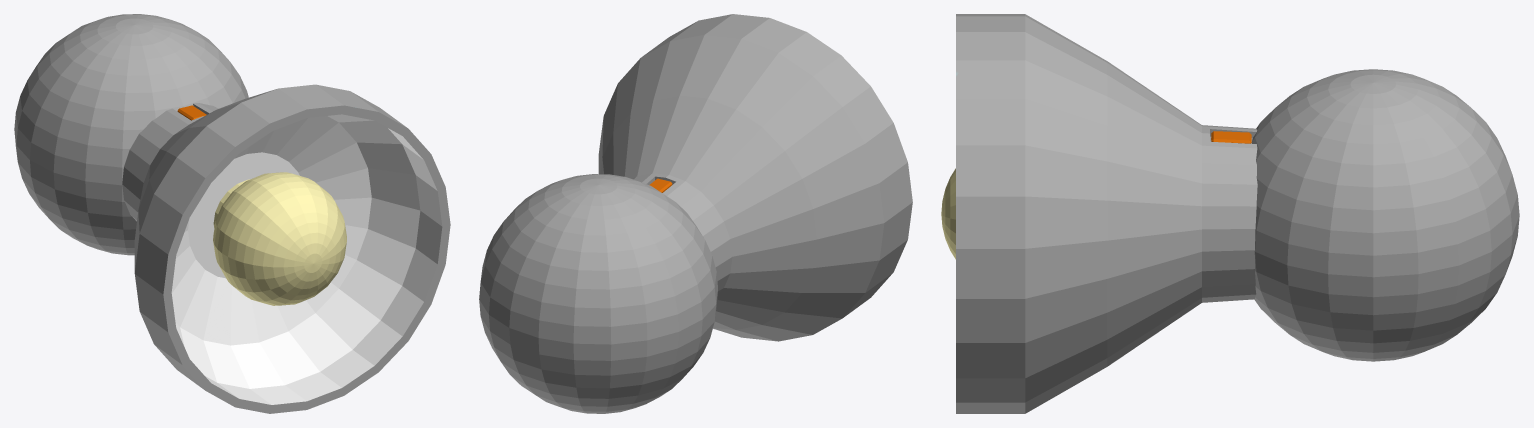
File: light_head.fbx
3 renders of one model, left to right at view 1: azimuth 30°, elevation 25°; view 2: azimuth 150°, elevation 25°; view 3: azimuth 270°, elevation 25°, orthographic. The views are drawn at different scales.
Parts seen in each view (by area): view 1: pSphere7; view 2: pSphere7; view 3: pSphere7.
Boxes of the visible parts, x1,y1,x2,y2 form: pSphere7: (14,14,450,413); pSphere7: (479,14,912,413); pSphere7: (941,14,1519,413).
Bounding box in the file's own units: 3.76 × 3.76 × 5.41.
Materials: 1 (1 with a texture image).
